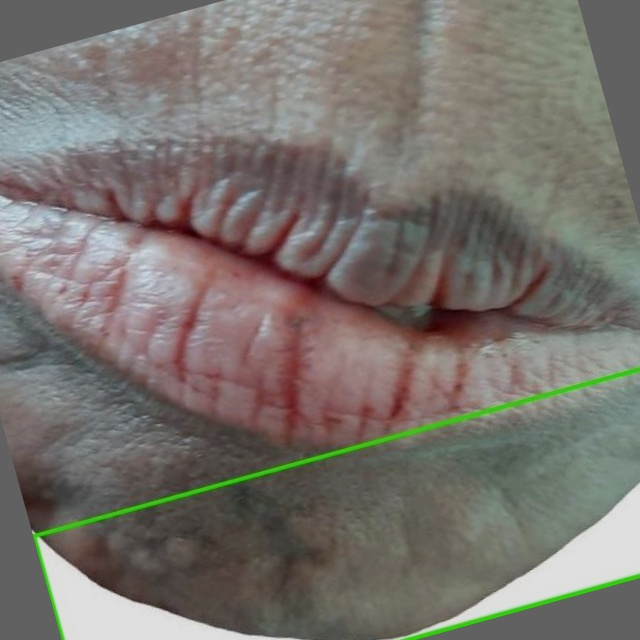Eczema: (34, 370, 639, 639)
